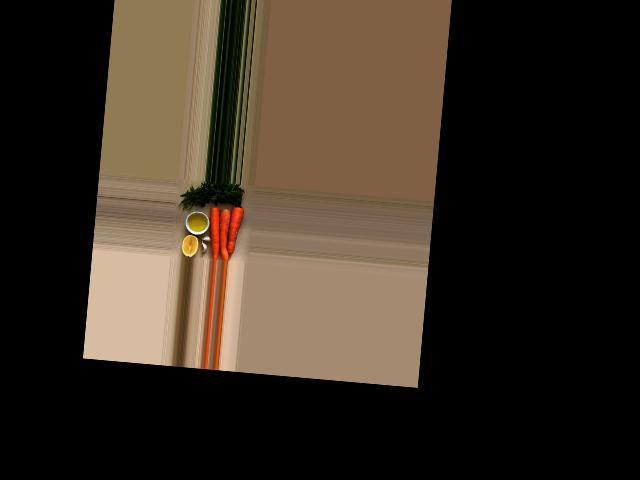carrot: (205, 204, 224, 260)
